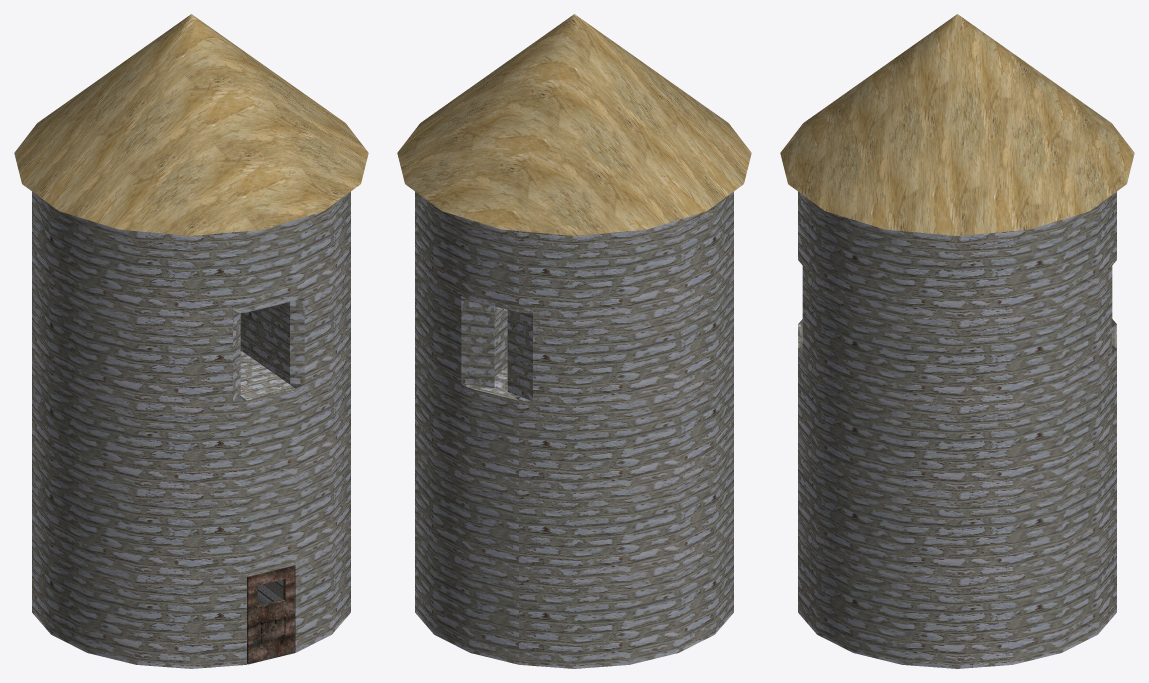
File: WallCornerTextured.FBX
The picture shows the model from 3 angles, left to right: view 1: azimuth 30°, elevation 25°; view 2: azimuth 150°, elevation 25°; view 3: azimuth 270°, elevation 25°; orthographic projection.
Visible parts, largest first — view 1: Cylinder001, Cone001, Box001; view 2: Cylinder001, Cone001; view 3: Cylinder001, Cone001.
Boxes of the visible parts, left/top/right/bottom form: Cylinder001: left=32, top=191, right=350, bottom=668; Cone001: left=14, top=14, right=368, bottom=235; Box001: left=247, top=565, right=294, bottom=664; Cylinder001: left=415, top=191, right=733, bottom=668; Cone001: left=397, top=14, right=751, bottom=235; Cylinder001: left=798, top=191, right=1116, bottom=668; Cone001: left=780, top=14, right=1134, bottom=235.
Size of the model in its own units: 43.52 by 79.89 by 43.76.
